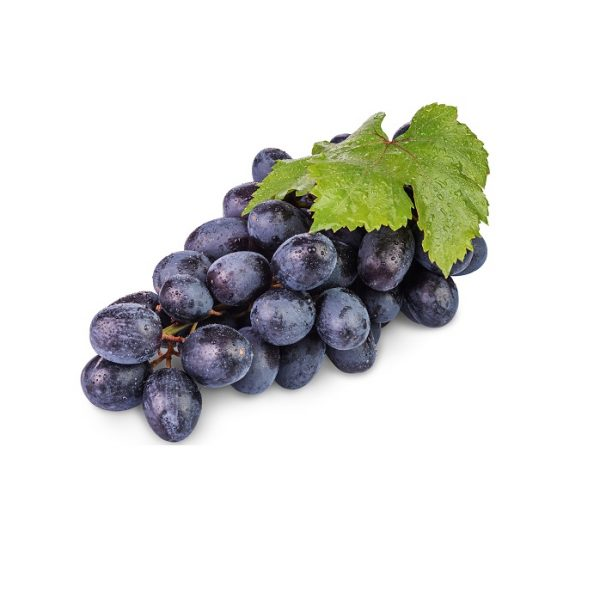Black grapes: (30, 91, 516, 439)
